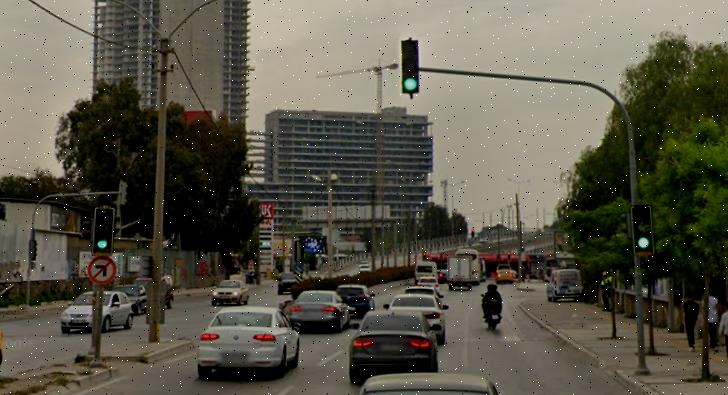greenlight: (634, 205, 652, 254), (402, 41, 418, 90), (95, 208, 112, 254)
leftturnsareforbidden: (89, 257, 113, 281)
